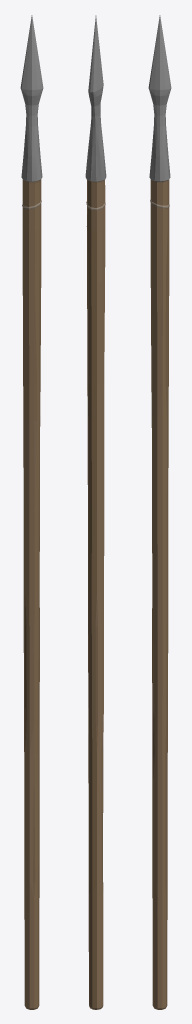
Rendered from pokeHeavySpear.glb.
3 renders of one model, left to right at view 1: azimuth 90°, elevation 25°; view 2: azimuth 150°, elevation 25°; view 3: azimuth 270°, elevation 25°, orthographic.
Visible parts, largest first — view 1: pokeHeavySpear; view 2: pokeHeavySpear; view 3: pokeHeavySpear.
Boxes of the visible parts, box(x1,y1,x2,y2) form: pokeHeavySpear: box(20, 15, 43, 1009); pokeHeavySpear: box(85, 15, 106, 1009); pokeHeavySpear: box(148, 15, 171, 1009).
Bounding box in the file's own units: 0.0465 × 2.35 × 0.049.
